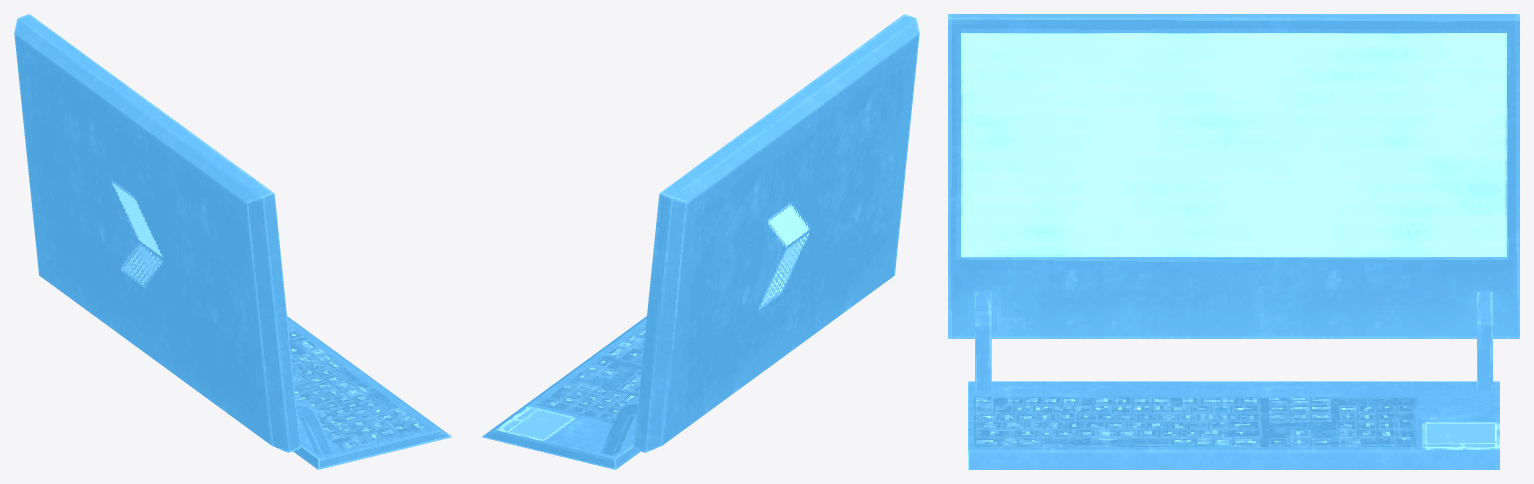
Rendered from monitor.glb.
3 views of the same model, side by side, from view 1: azimuth 30°, elevation 25°; view 2: azimuth 150°, elevation 25°; view 3: azimuth 270°, elevation 25° (orthographic). The views are drawn at different scales.
Visible parts, largest first — view 1: monitor-col; view 2: monitor-col; view 3: monitor-col.
Boxes of the visible parts, <box> form: monitor-col: <box>14,14,452,469</box>; monitor-col: <box>481,14,919,469</box>; monitor-col: <box>948,14,1519,469</box>.
Size of the model in its own units: 1.26 by 1.71 by 2.57.
Materials: 1 (1 with a texture image).
